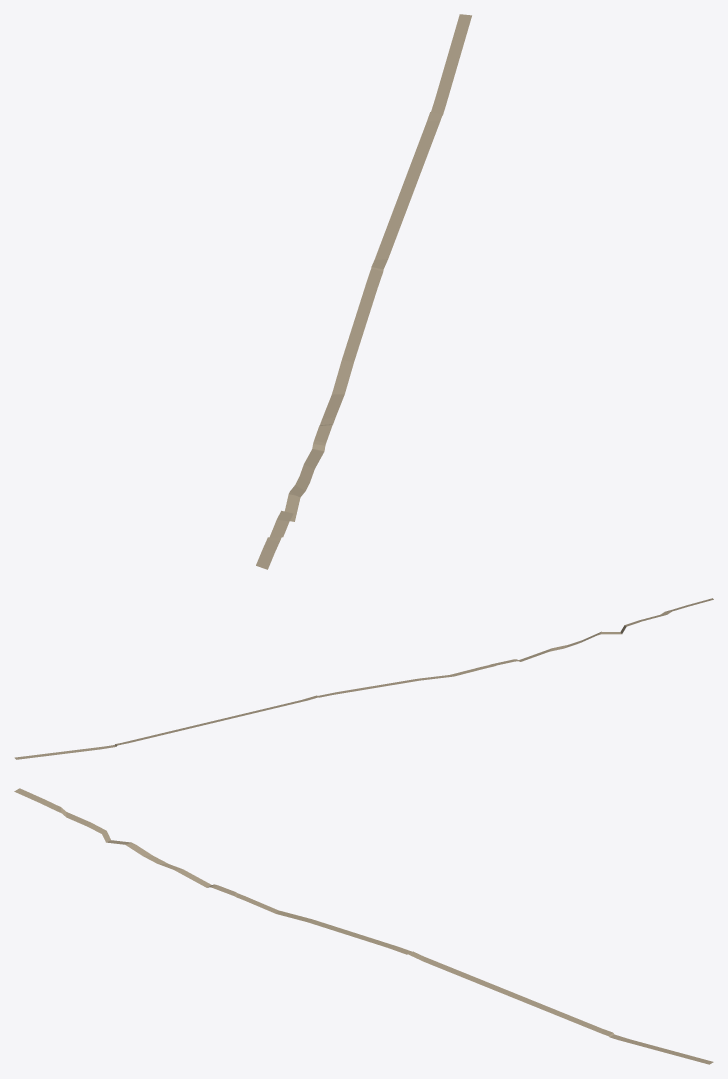
The model's file is farm_13_13_track.glb.
3 views of the same model, one above another, from view 1: azimuth 30°, elevation 25°; view 2: azimuth 150°, elevation 25°; view 3: azimuth 270°, elevation 25° (orthographic). The views are drawn at different scales.
Parts seen in each view (by area): view 1: geometry_0; view 2: geometry_0; view 3: geometry_0.
Part boxes in pixels (bbox=[...]): geometry_0: bbox=[256, 14, 471, 569]; geometry_0: bbox=[14, 598, 713, 759]; geometry_0: bbox=[14, 788, 713, 1064].
Size of the model in its own units: 244 by 25.71 by 313.
